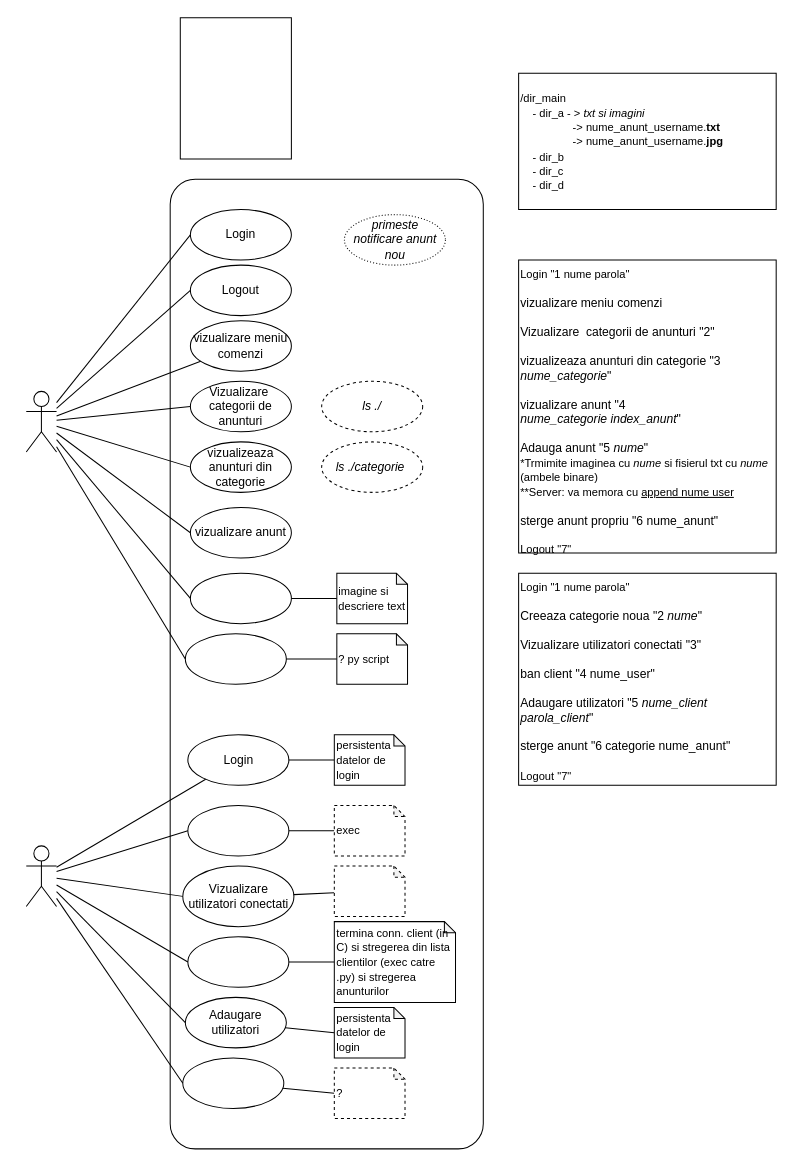
This 794x1167 diagram has some shape labels left out. The centre of each missing label's shape, as x and y in pixels:
Adauga anunt: pixel 240 598
Admin: pixel 41 875
ban client: pixel 238 961
Creeaza categorie noua: pixel 238 830
memorie ram: pixel 369 891
Site de anunturi -Administrator -Vanzator: pixel 235 88
sterge anunt: pixel 233 1082
sterge anunt propriu: pixel 235 658
Utilizator: pixel 41 421
